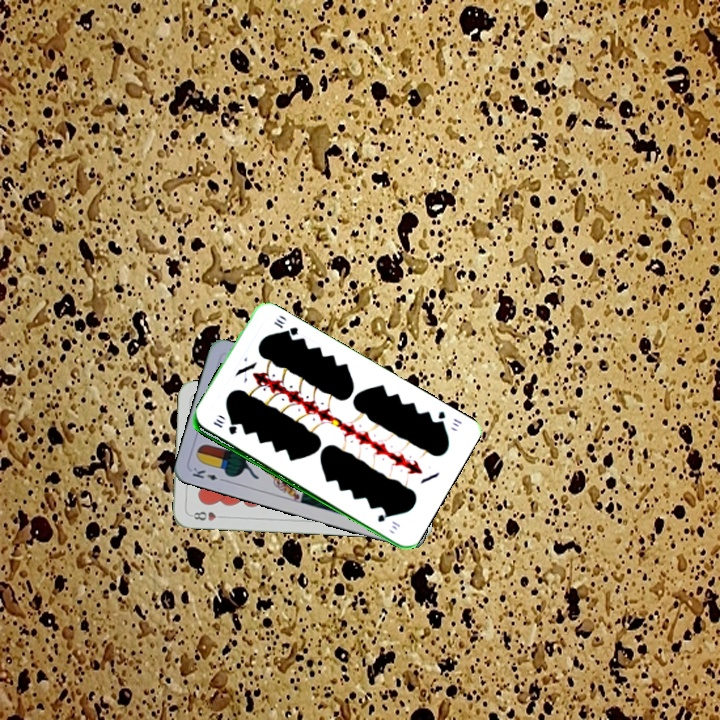EK: (188, 463, 228, 485)
G10: (431, 407, 464, 429), (209, 415, 239, 437)
H8: (187, 507, 227, 523)
